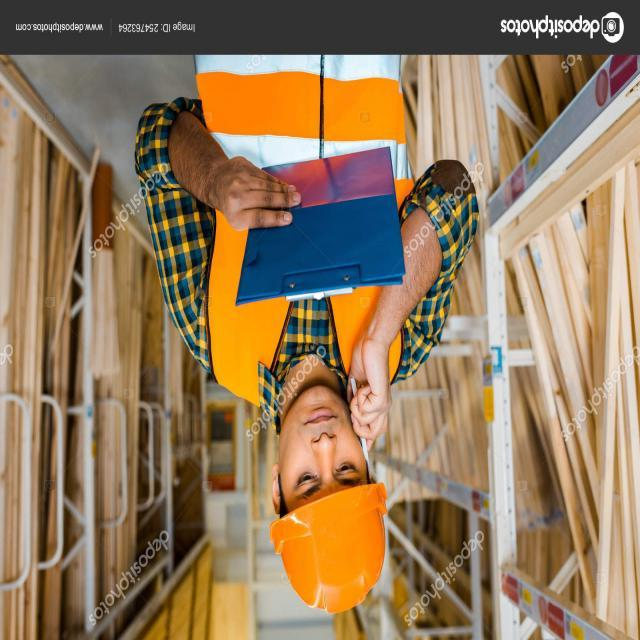safetyhelmet: (267, 414, 390, 610)
